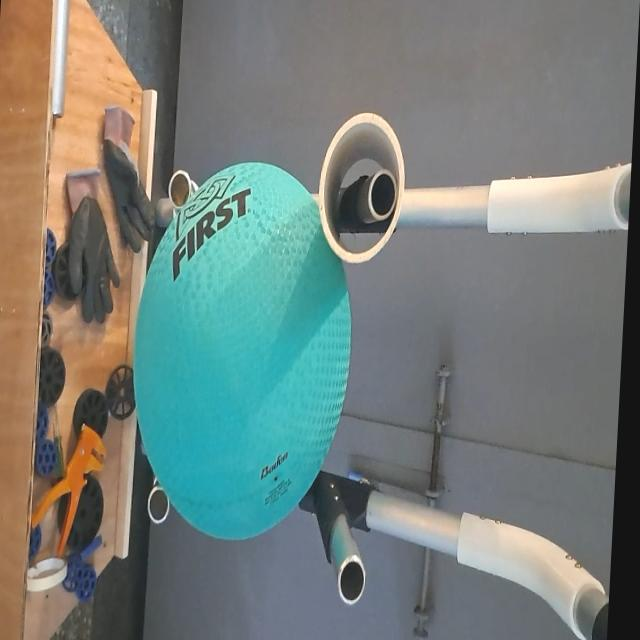ALGAE: (121, 161, 363, 547)
CORAL: (312, 114, 412, 264)
